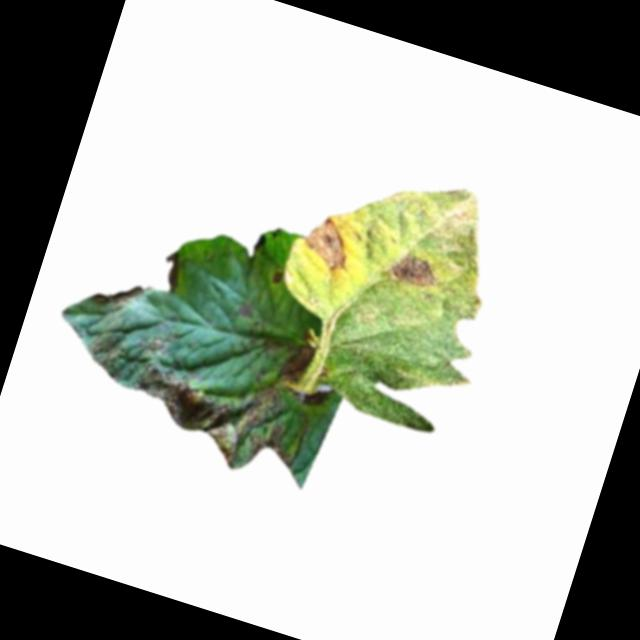Early_blight: (121, 345, 316, 488), (300, 210, 363, 276), (384, 248, 442, 293), (90, 274, 146, 316), (152, 245, 190, 294), (274, 341, 312, 385), (271, 272, 288, 288)
